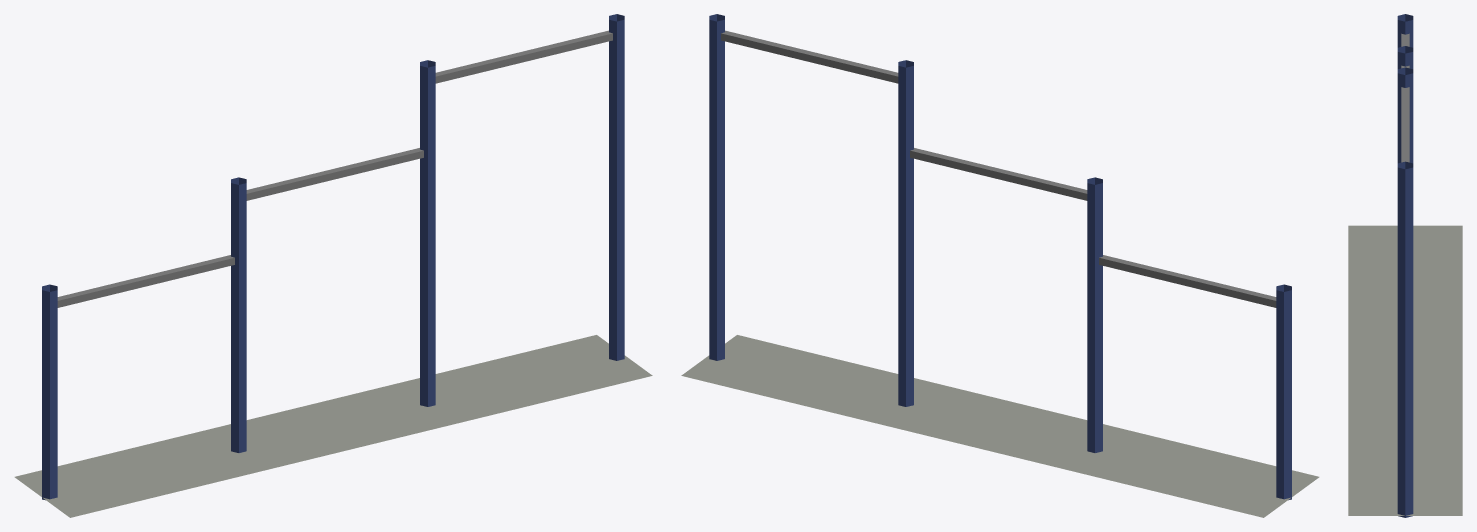
File: site_play6.fbx
3 renders of one model, left to right at view 1: azimuth 30°, elevation 25°; view 2: azimuth 150°, elevation 25°; view 3: azimuth 270°, elevation 25°, orthographic. The views are drawn at different scales.
Visible parts, largest first — view 1: a3004/0/site_play6; view 2: a3004/0/site_play6; view 3: a3004/0/site_play6.
Boxes of the visible parts, x1,y1,x2,y2 form: a3004/0/site_play6: (14, 14, 652, 517); a3004/0/site_play6: (681, 14, 1319, 517); a3004/0/site_play6: (1348, 14, 1462, 517).
Size of the model in its own units: 3 by 1.68 by 0.5.
